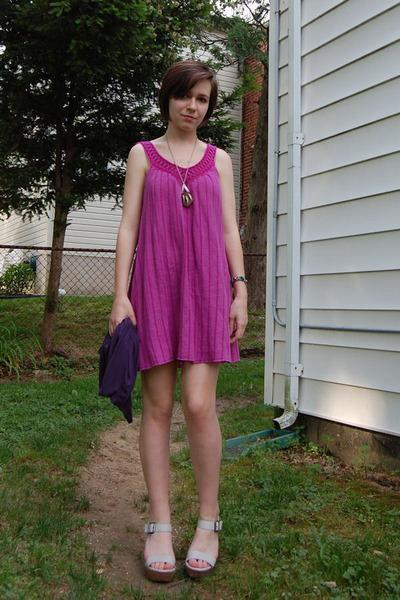dress: (122, 139, 243, 369)
shoe: (144, 521, 217, 571)
